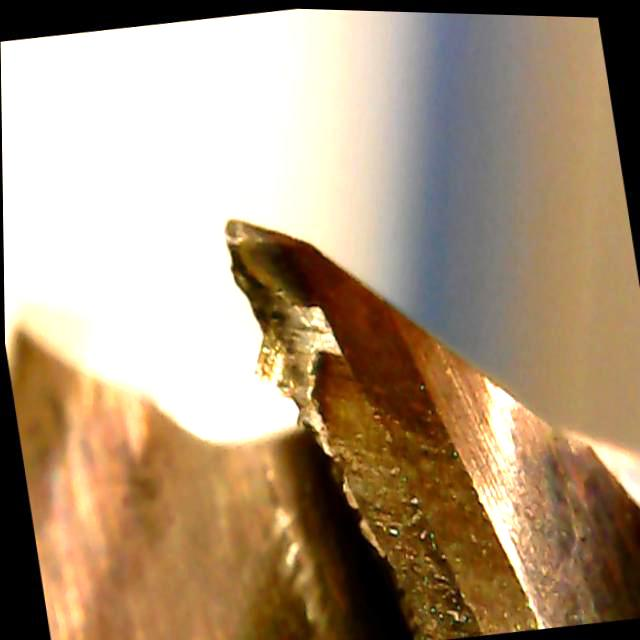Tool-wear-class-3: (201, 186, 411, 448)
